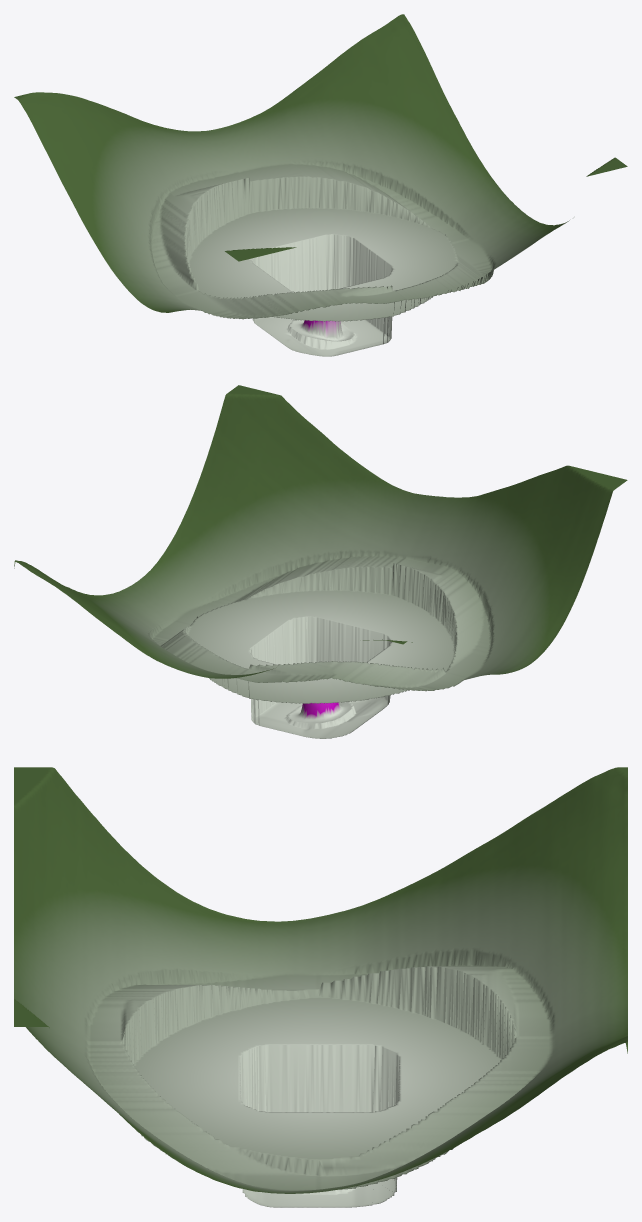
The model's file is test_depth_anything_v2_base_mesh.glb.
3 views of the same model, one above another, from view 1: azimuth 30°, elevation 25°; view 2: azimuth 150°, elevation 25°; view 3: azimuth 270°, elevation 25° (orthographic). The views are drawn at different scales.
Parts seen in each view (by area): view 1: geometry_0; view 2: geometry_0; view 3: geometry_0.
Part boxes in pixels (bbox=[...]): geometry_0: bbox=[14, 14, 627, 356]; geometry_0: bbox=[14, 385, 627, 738]; geometry_0: bbox=[14, 767, 627, 1207].
Bounding box in the file's own units: 2 × 1 × 2.
